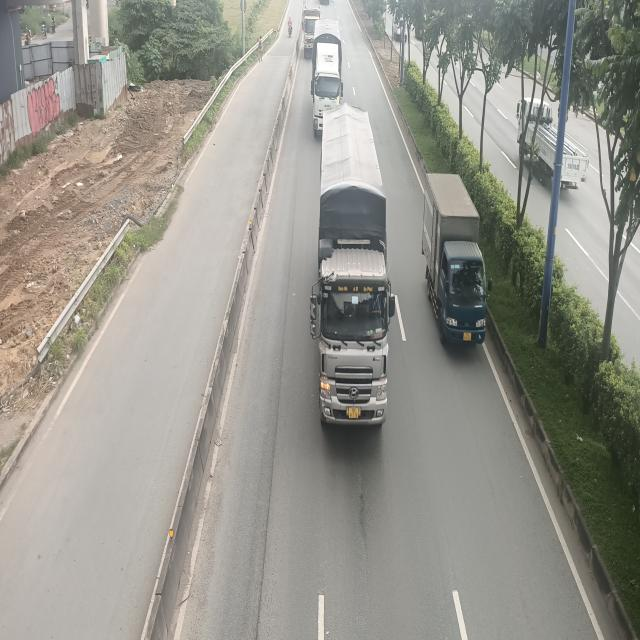truck: (306, 106, 396, 432), (423, 169, 494, 354), (314, 19, 346, 133)
